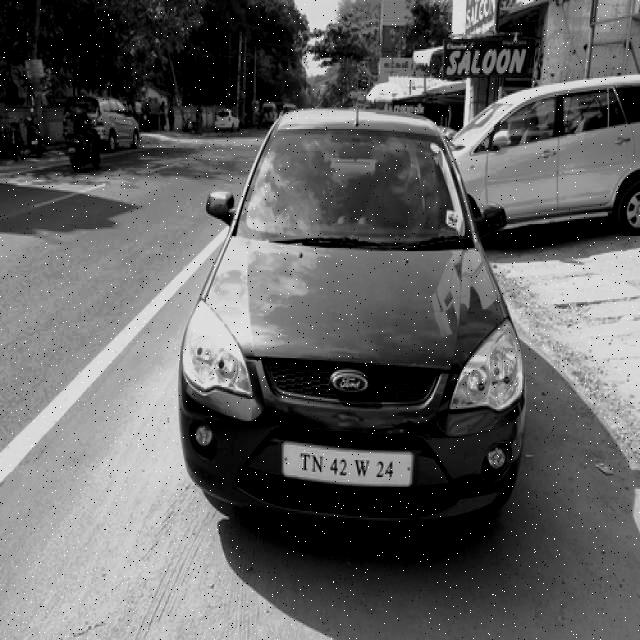Car: (185, 110, 530, 522)
